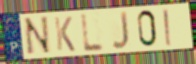0: (136, 9, 159, 49)
I: (162, 8, 174, 48)
J: (111, 10, 131, 51)
K: (53, 16, 77, 53)
L: (80, 12, 105, 53)
N: (23, 15, 53, 58)
